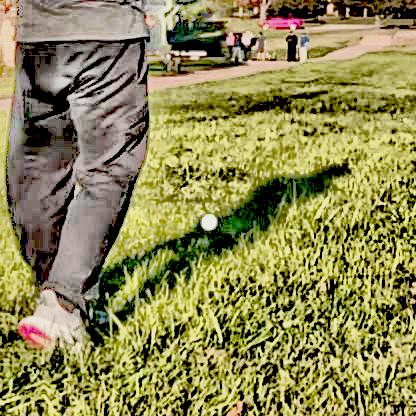golfball: (198, 209, 215, 226)
